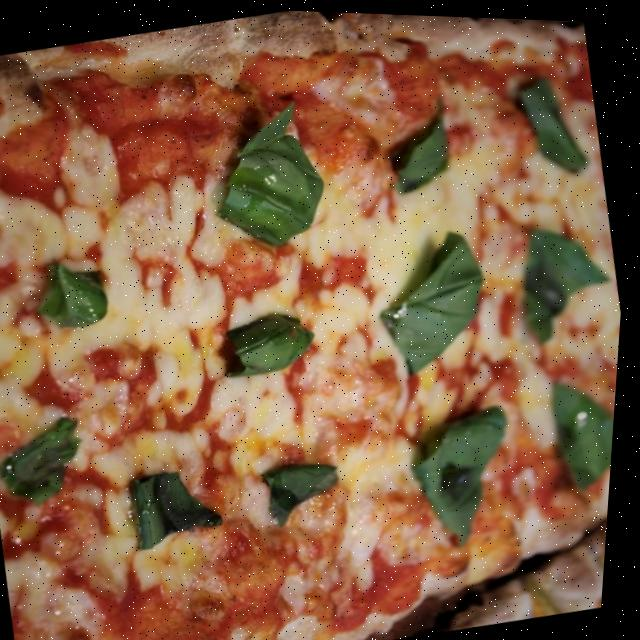basil: (368, 224, 503, 376), (406, 399, 535, 550), (205, 97, 335, 239), (514, 213, 625, 342), (124, 457, 242, 557), (0, 413, 98, 511), (512, 68, 595, 177), (550, 368, 622, 489), (222, 303, 325, 380), (32, 255, 117, 335), (264, 452, 353, 527), (387, 105, 460, 192)
pizza: (0, 0, 640, 640)
